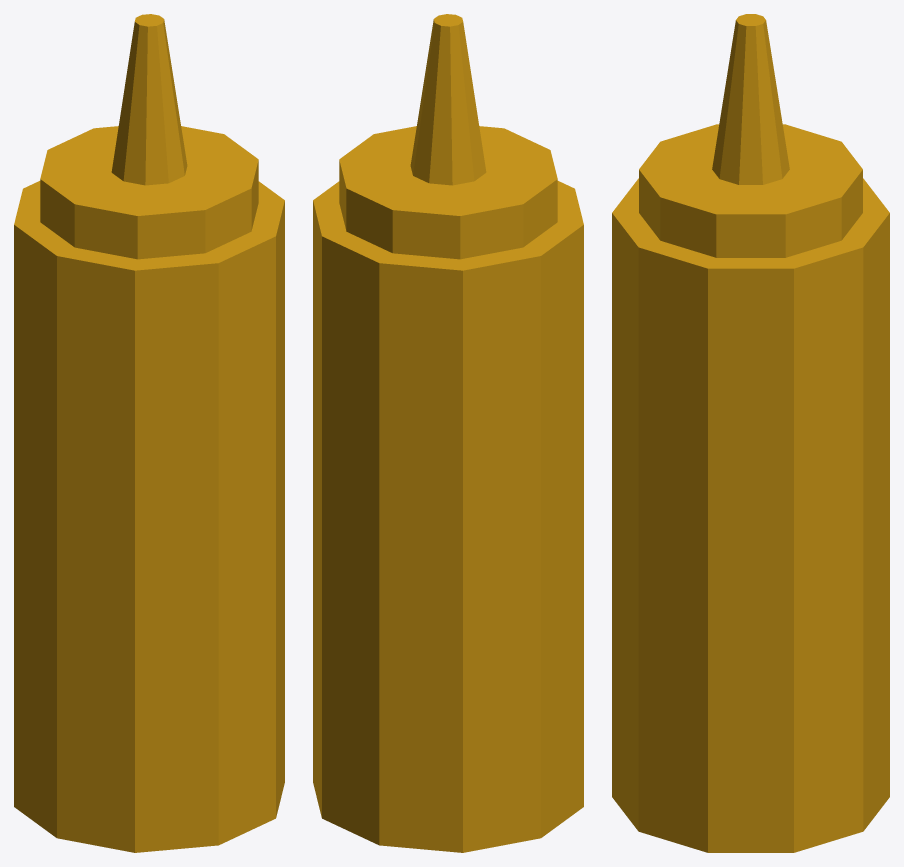
The model's file is mustard 1.fbx.
The picture shows the model from 3 angles, left to right: view 1: azimuth 30°, elevation 25°; view 2: azimuth 150°, elevation 25°; view 3: azimuth 270°, elevation 25°; orthographic projection.
Parts seen in each view (by area): view 1: Cylinder; view 2: Cylinder; view 3: Cylinder.
Boxes of the visible parts, box(x1,y1,x2,y2) form: Cylinder: box(14, 14, 284, 852); Cylinder: box(313, 14, 583, 852); Cylinder: box(612, 14, 889, 852).
Bounding box in the file's own units: 0.0714 × 0.2315 × 0.075.
1 material, 1 textured.
